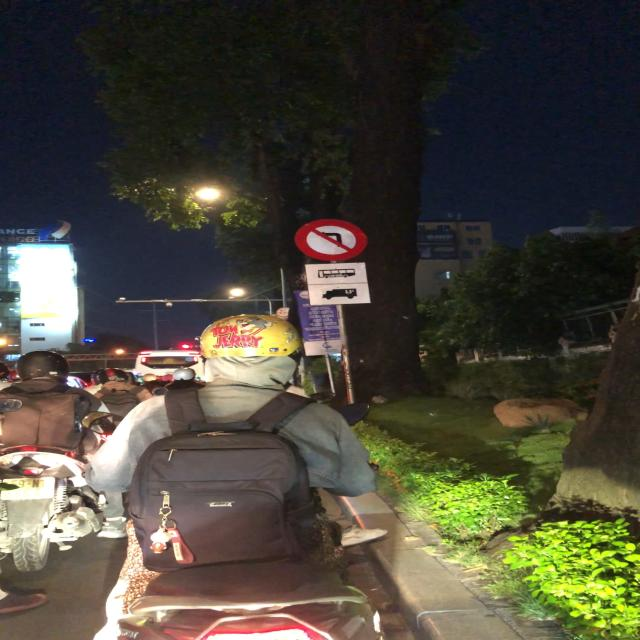Bien bao cam re trai: (293, 217, 372, 262)
